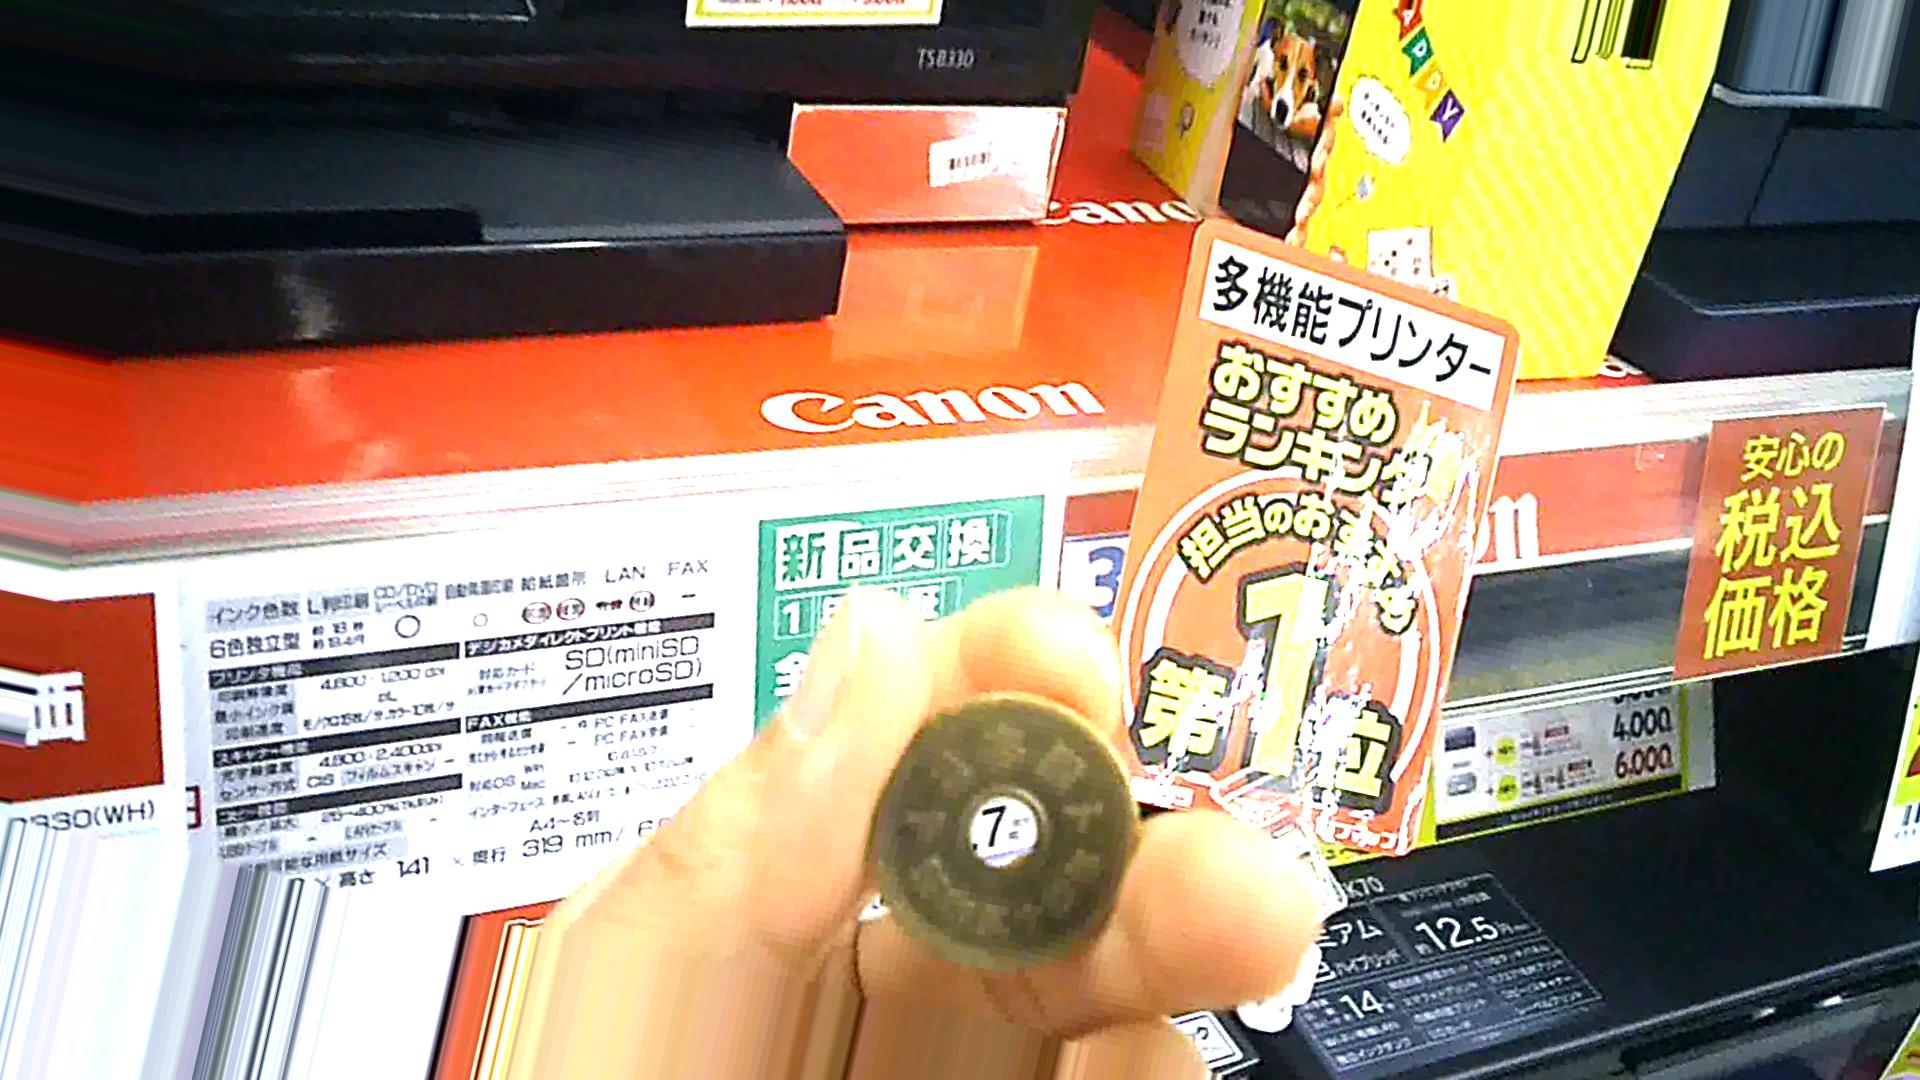5 Yen: (864, 692, 1141, 967)
